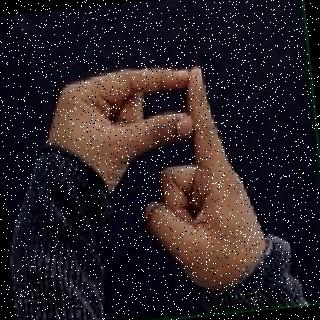P: (38, 39, 274, 292)
